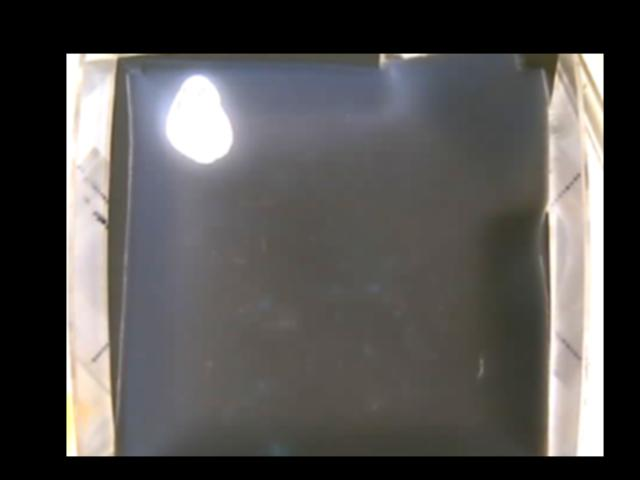Pebble: (164, 75, 232, 161)
